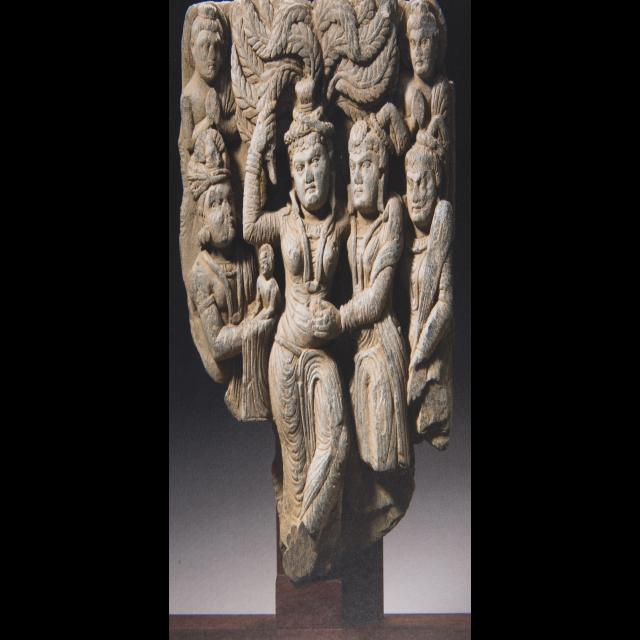buddha-sitting: (250, 244, 281, 320)
